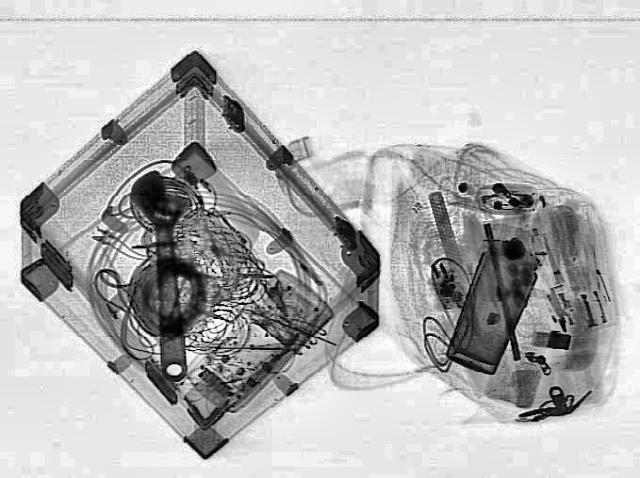Wrench: (129, 170, 203, 380)
